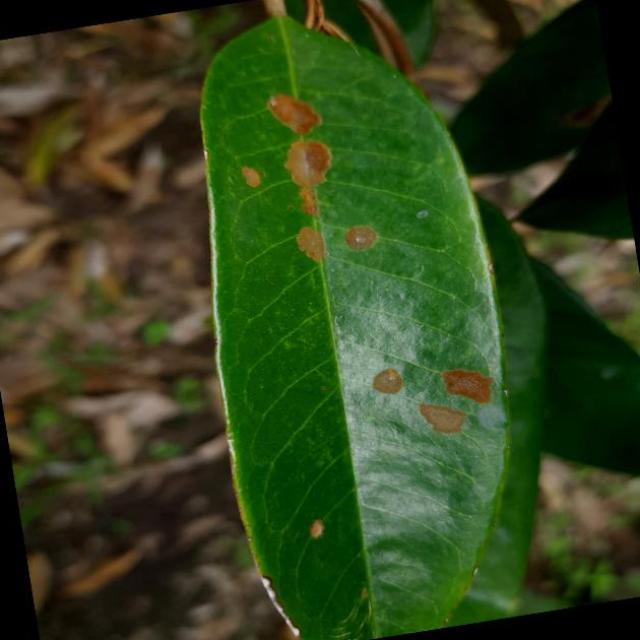Algal Leaf Spot: (153, 0, 556, 640)
